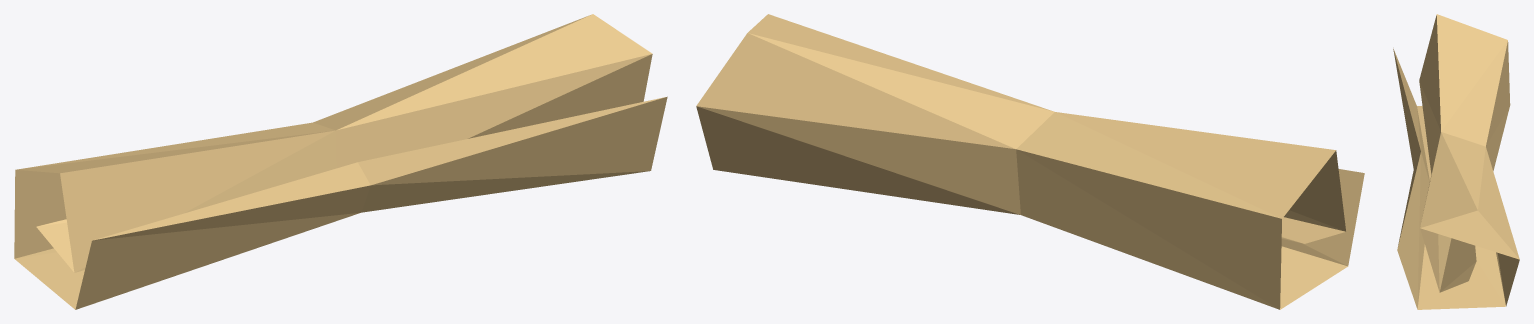
The model's file is Scroll_002.fbx.
3 renders of one model, left to right at view 1: azimuth 30°, elevation 25°; view 2: azimuth 150°, elevation 25°; view 3: azimuth 270°, elevation 25°, orthographic. The views are drawn at different scales.
Visible parts, largest first — view 1: Scroll_002; view 2: Scroll_002; view 3: Scroll_002.
Boxes of the visible parts, <box> form: Scroll_002: <box>14,14,667,309</box>; Scroll_002: <box>696,14,1364,309</box>; Scroll_002: <box>1393,14,1519,309</box>.
Size of the model in its own units: 0.2832 by 0.0604 by 0.0739.
